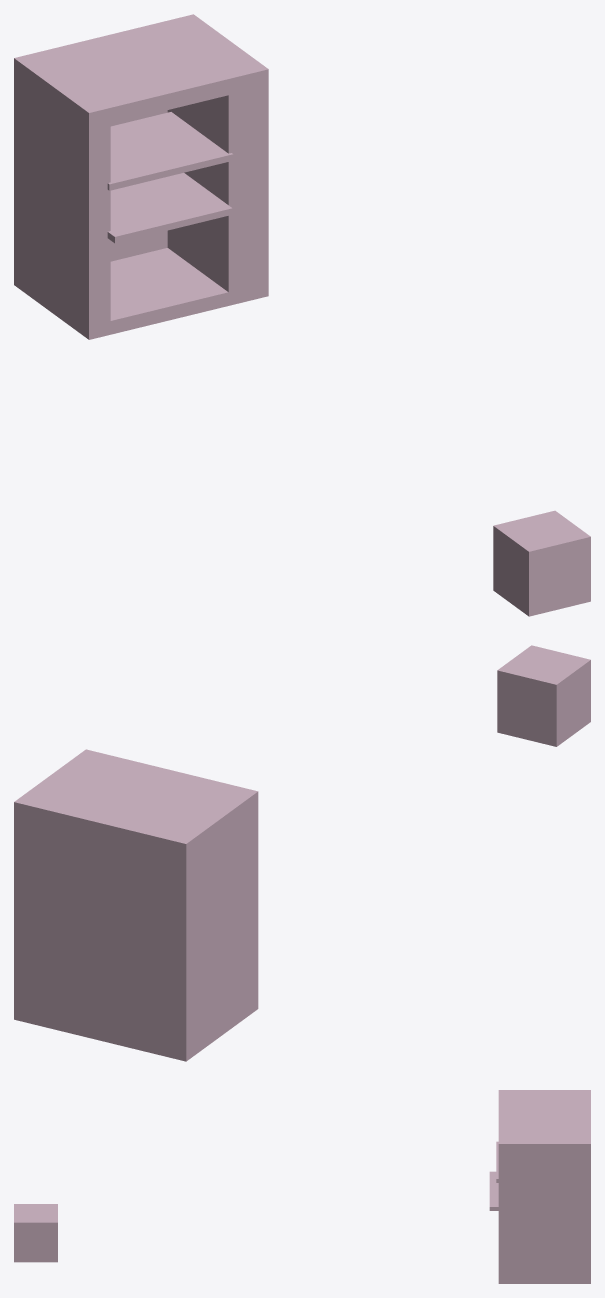
File: Fabulous Gaaris (1).glb
The picture shows the model from 3 angles, top to bottom: view 1: azimuth 30°, elevation 25°; view 2: azimuth 150°, elevation 25°; view 3: azimuth 270°, elevation 25°; orthographic projection. The views are drawn at different scales.
Parts seen in each view (by area): view 1: Mesh_Mesh_head_geo.001_lambert2SG.001; view 2: Mesh_Mesh_head_geo.001_lambert2SG.001; view 3: Mesh_Mesh_head_geo.001_lambert2SG.001.
Boxes of the visible parts, bbox=[...] form: Mesh_Mesh_head_geo.001_lambert2SG.001: bbox=[14, 14, 590, 616]; Mesh_Mesh_head_geo.001_lambert2SG.001: bbox=[14, 645, 590, 1061]; Mesh_Mesh_head_geo.001_lambert2SG.001: bbox=[14, 1090, 590, 1283].
Size of the model in its own units: 58 by 70 by 262.
